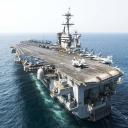Portanaves: (11, 7, 126, 120)
